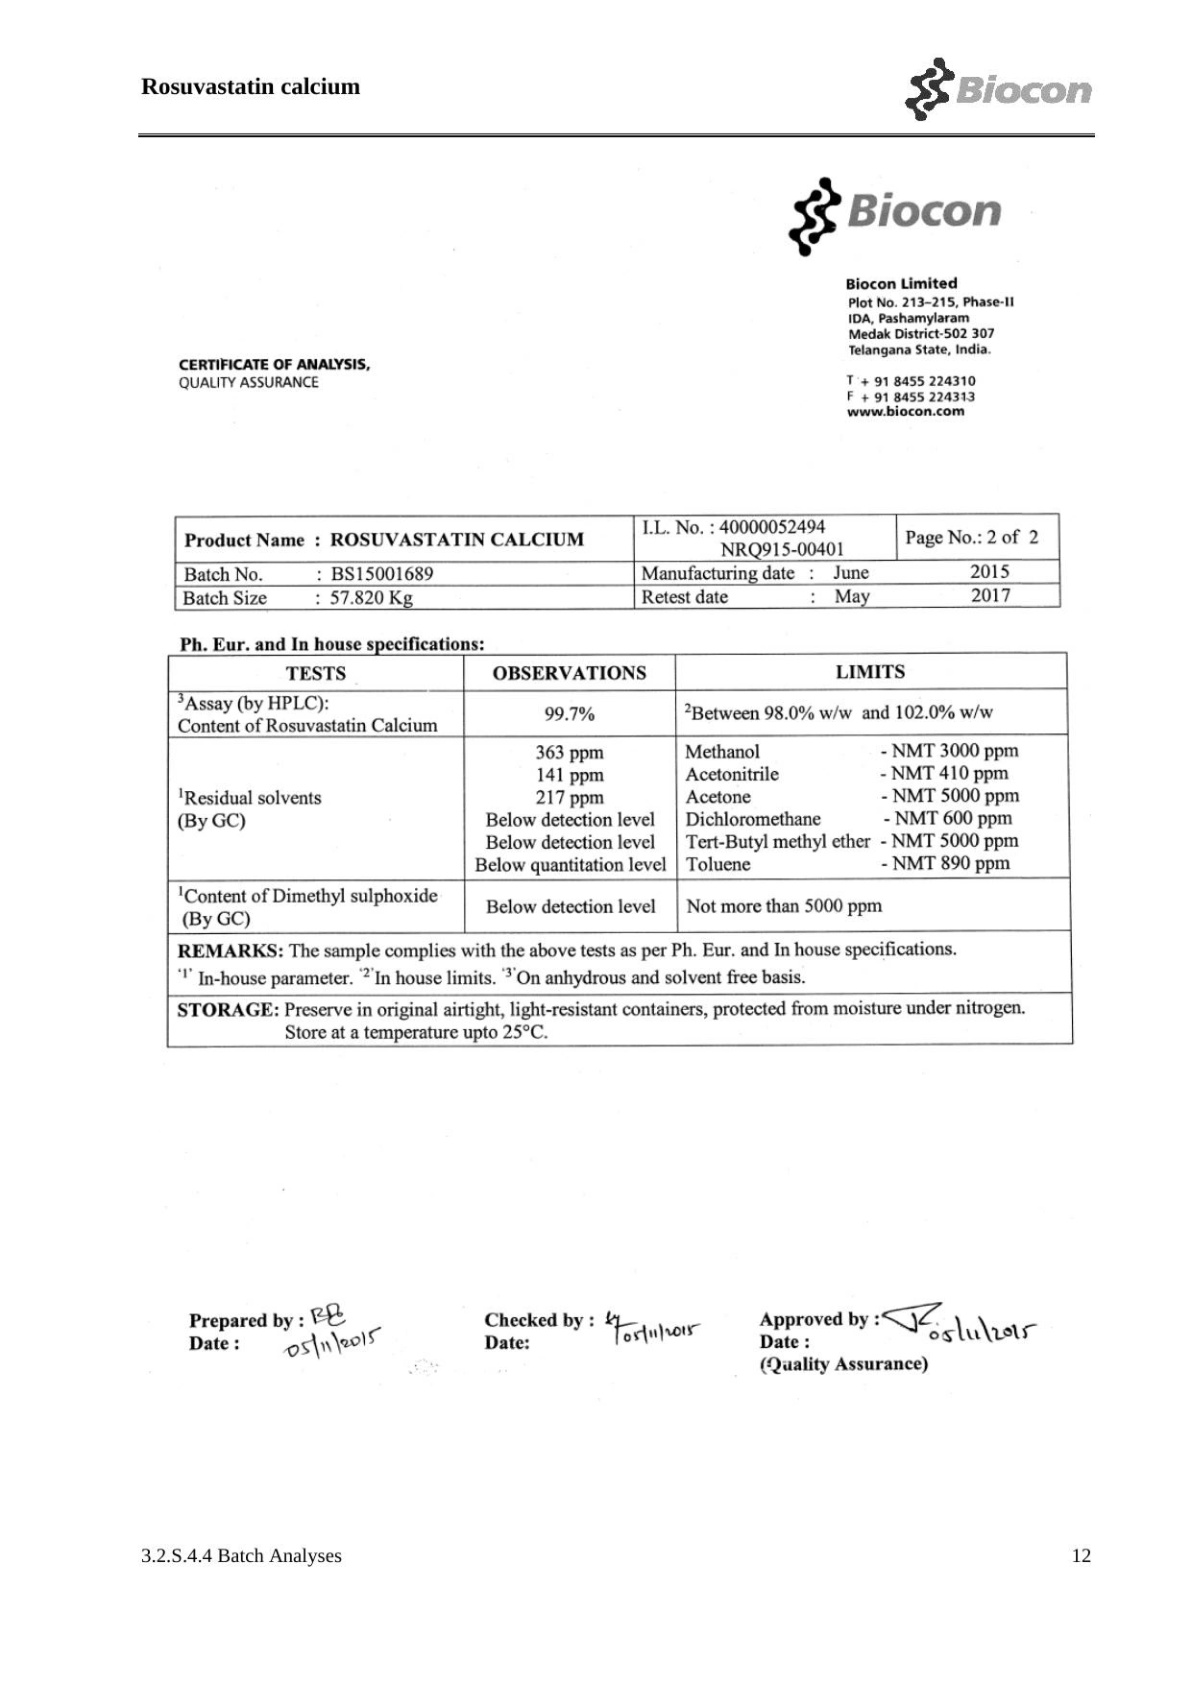merged_cells: (165, 651, 1075, 1050), (173, 512, 1062, 612)
